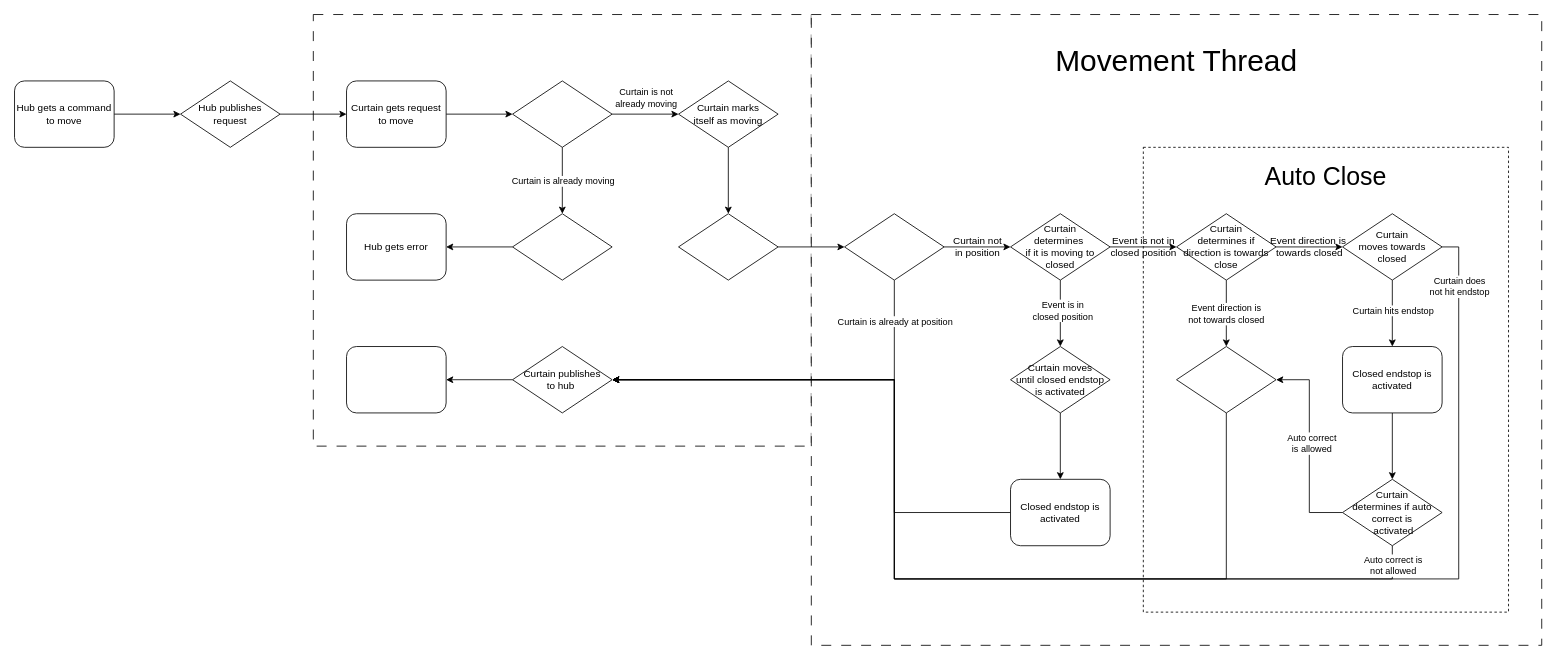
Image size: 1556x660. Some labels were removed from this diagram. Here are the shapes that lost their labels. From the top down, the box of each, then its label:
(512, 80, 612, 147): Curtain checks if already moving
(312, 14, 811, 446): Controller
(512, 213, 612, 280): Curtain creates error and publishes to hub
(678, 213, 778, 280): Curtain spawns a moving event
(844, 213, 944, 280): Spawned moving event checks if Curtain is at position
(346, 346, 446, 413): Hub gets update
(1176, 346, 1276, 413): Curtain steps to position
